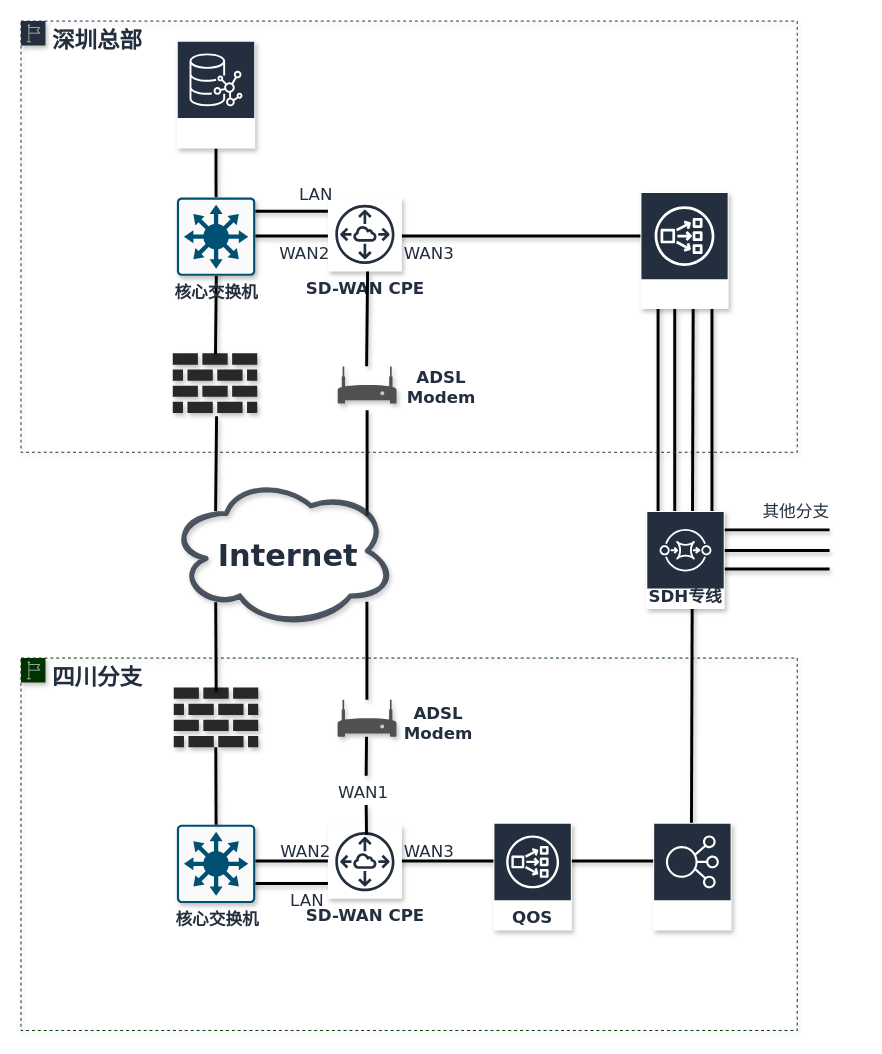
This 882x1054 diagram has some shape labels left out. The centre of each missing label's shape, as x and y in pixels:
Servers: (x=216, y=95)
WOC: (x=692, y=877)
边缘路由器: (x=685, y=251)
